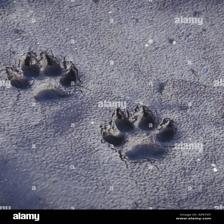wolf: (100, 105, 179, 168), (6, 48, 82, 107)
